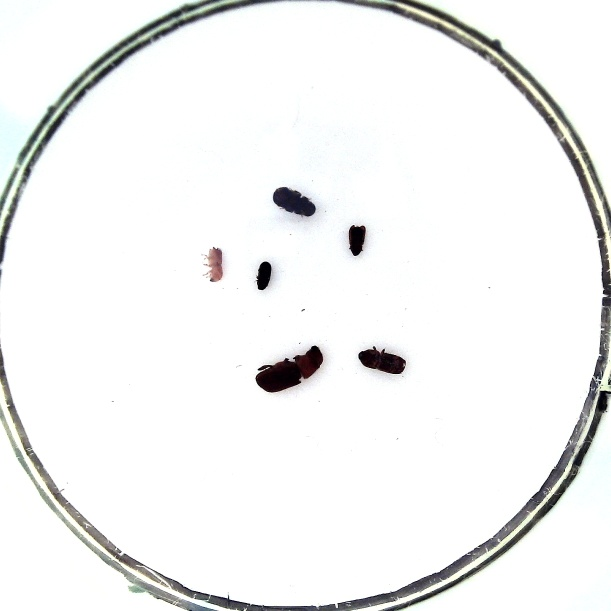acuminatus: (257, 261, 271, 290)
armandi: (273, 187, 315, 216)
coleoptera: (348, 224, 366, 256), (208, 246, 222, 282)
leconte: (255, 345, 323, 393)
linnaeus: (358, 349, 405, 374)
